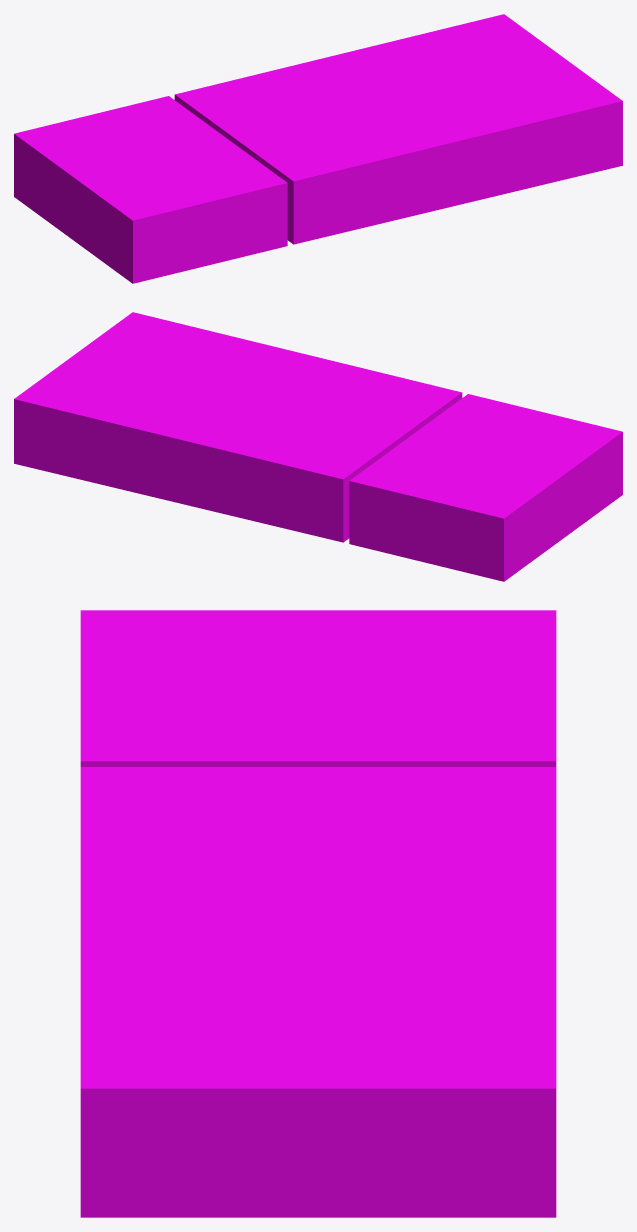
The model's file is Location.fbx.
3 renders of one model, top to bottom at view 1: azimuth 30°, elevation 25°; view 2: azimuth 150°, elevation 25°; view 3: azimuth 270°, elevation 25°, orthographic. The views are drawn at different scales.
Visible parts, largest first — view 1: polySurface3; view 2: polySurface3; view 3: polySurface3.
Part boxes in pixels (x1=…): polySurface3: x1=14, y1=14, x2=622, y2=283; polySurface3: x1=14, y1=312, x2=622, y2=581; polySurface3: x1=80, y1=610, x2=556, y2=1217.
Size of the model in its own units: 4763 by 600 by 2000.
